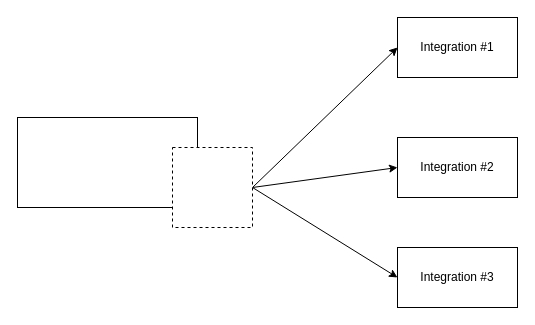
The diagram is 535 pixels wide and 325 high, and some of its shapes have lost their labels. Each missing label, with the box of its shape:
Logical MCP Server: (172, 146, 252, 228)
Supervised Agentic AI Platform: (16, 116, 198, 208)
